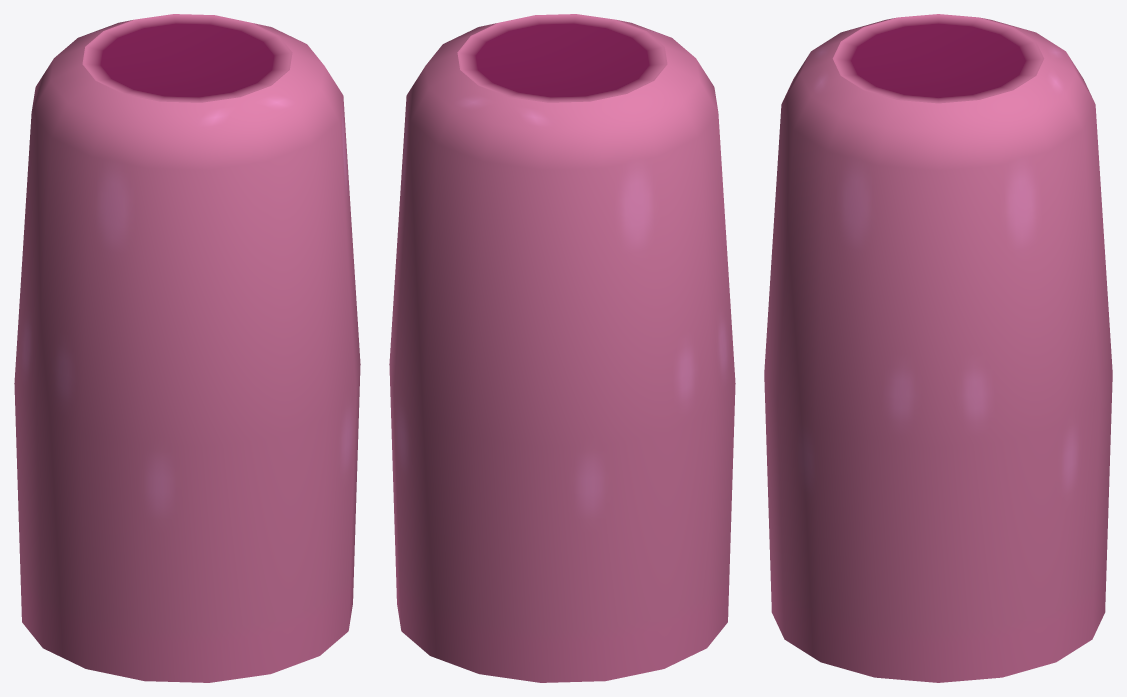
3 renders of one model, left to right at view 1: azimuth 30°, elevation 25°; view 2: azimuth 150°, elevation 25°; view 3: azimuth 270°, elevation 25°, orthographic.
Visible parts, largest first — view 1: wk_s02_64; view 2: wk_s02_64; view 3: wk_s02_64.
Part boxes in pixels (x1=…): wk_s02_64: x1=14, y1=14, x2=360, y2=682; wk_s02_64: x1=389, y1=14, x2=735, y2=682; wk_s02_64: x1=764, y1=14, x2=1112, y2=682.
Size of the model in its own units: 0.3711 by 0.3711 by 0.6506.
1 material, 1 textured.
